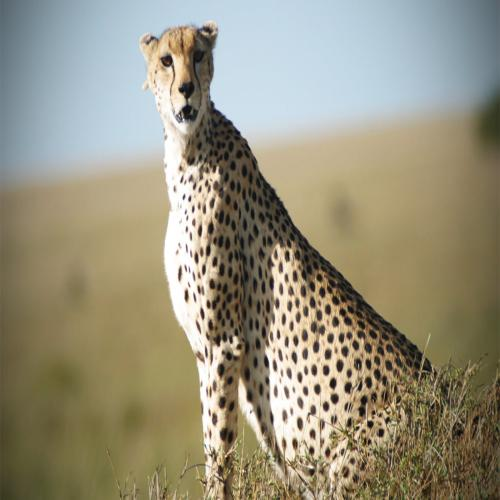cheetah-endangered: (138, 13, 450, 499)
